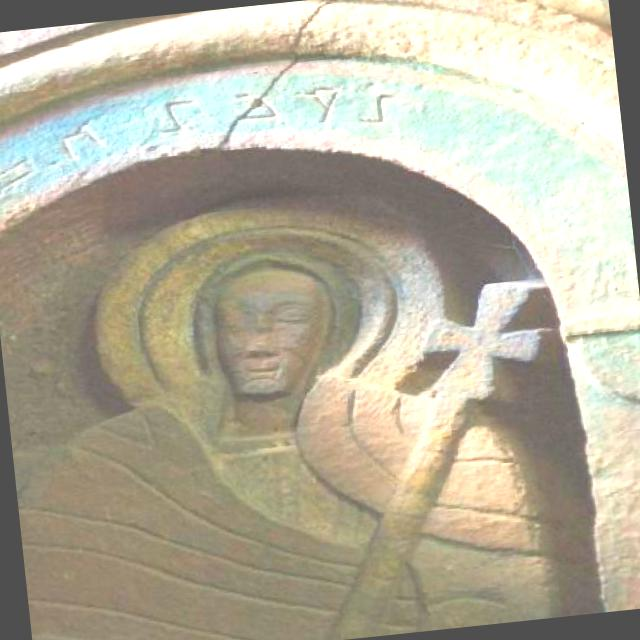Person: (0, 229, 557, 640)
